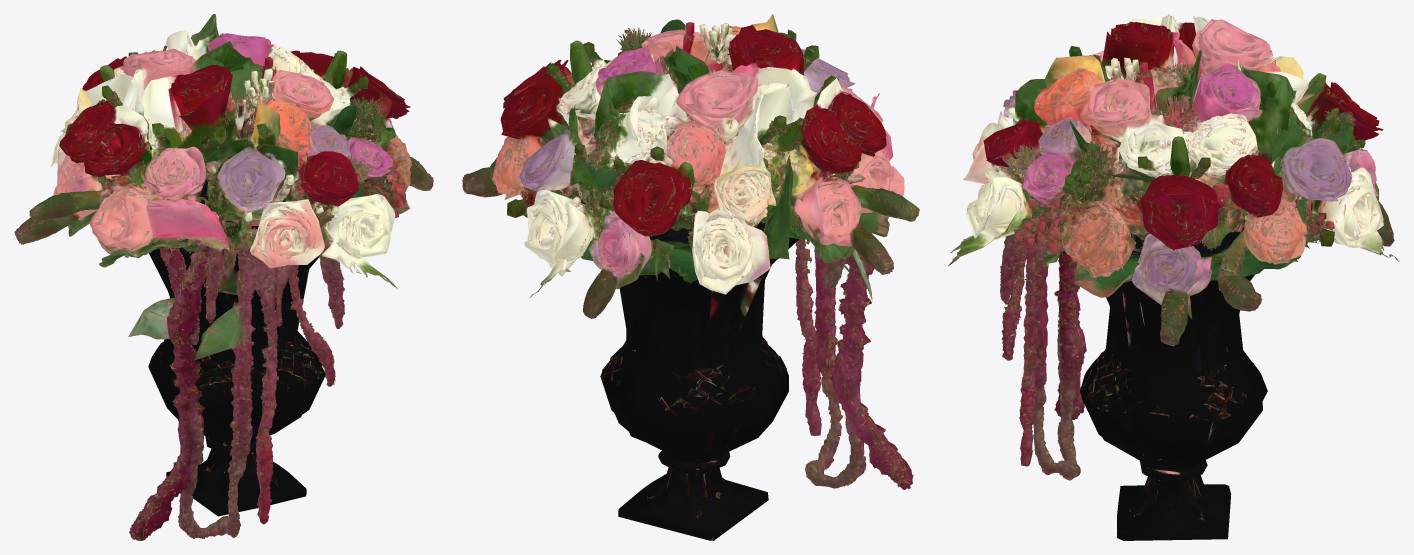
File: royal-guller.glb
3 renders of one model, left to right at view 1: azimuth 30°, elevation 25°; view 2: azimuth 150°, elevation 25°; view 3: azimuth 270°, elevation 25°, orthographic. The views are drawn at different scales.
Bounding box in the file's own units: 1.81 × 1.89 × 1.66.
1 material, 1 textured.
